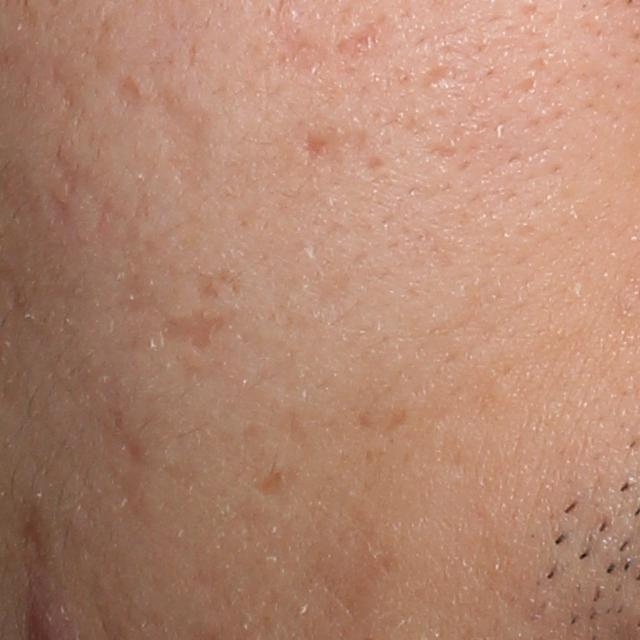atrophic_scar: (144, 87, 215, 195), (157, 302, 234, 353), (329, 14, 391, 58), (19, 497, 55, 565), (304, 120, 329, 168), (112, 74, 144, 110), (250, 472, 287, 499)
